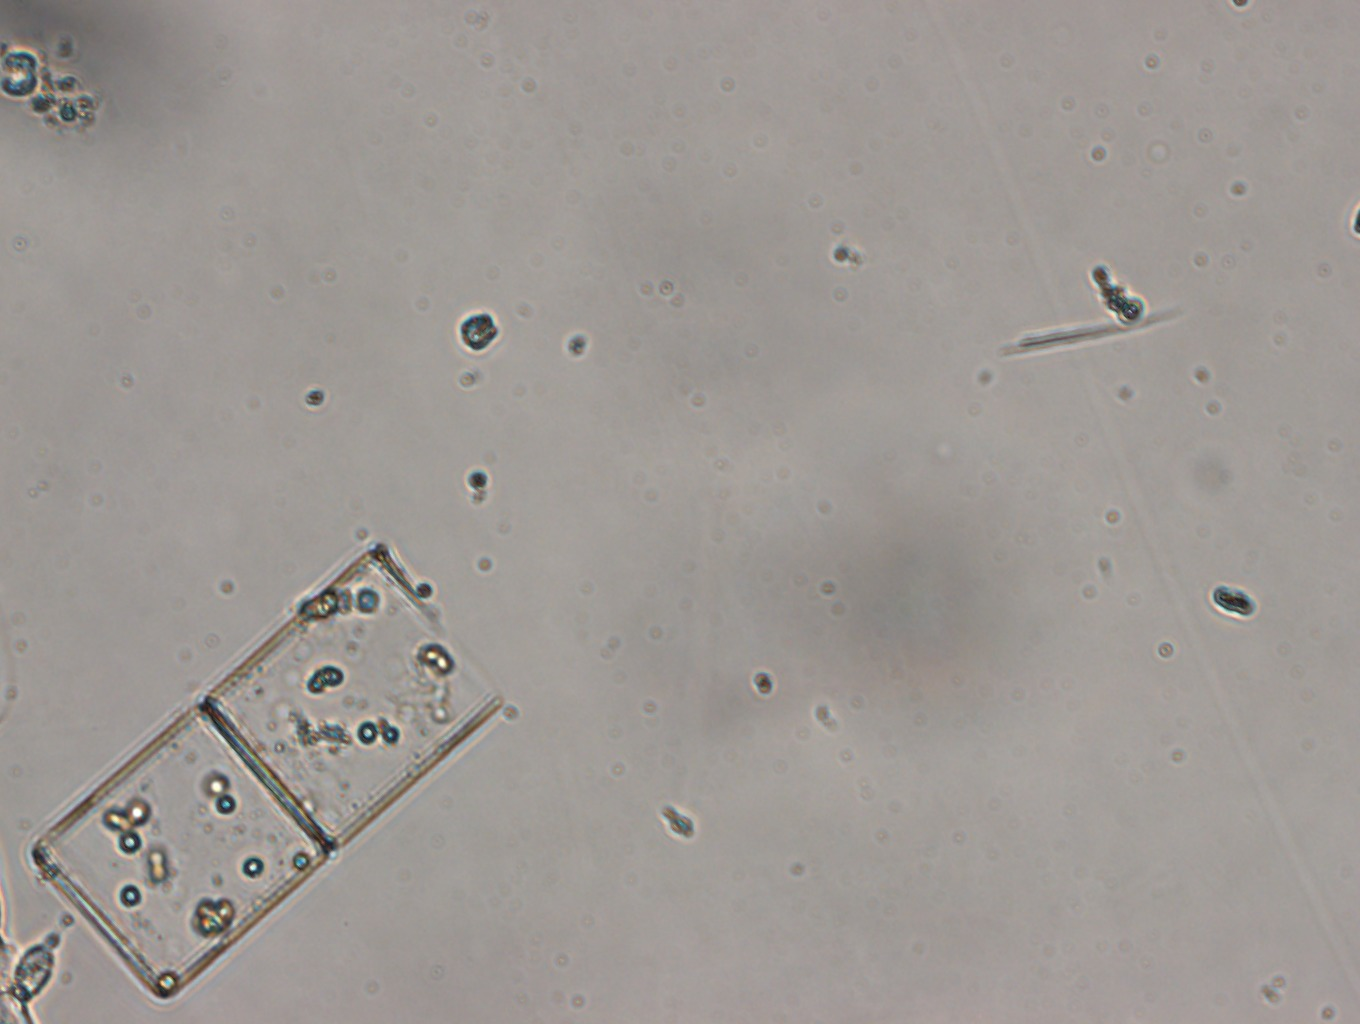guinardia flaccida: (28, 546, 501, 1002)
